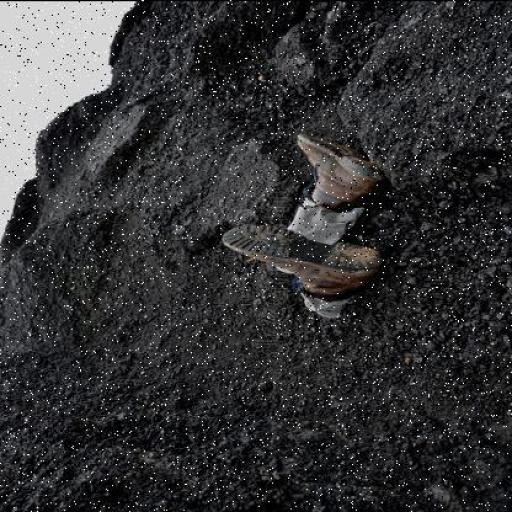safety_shoe: (228, 230, 386, 299), (286, 136, 381, 201)
